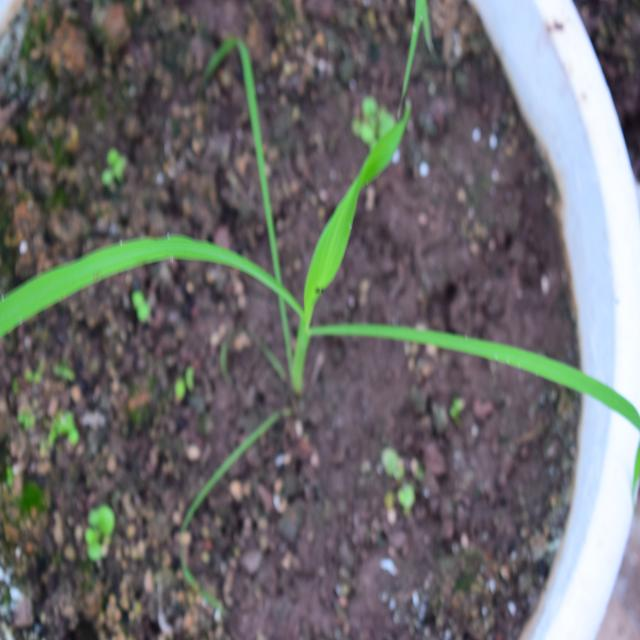barnyard_grass: (36, 132, 640, 448)
